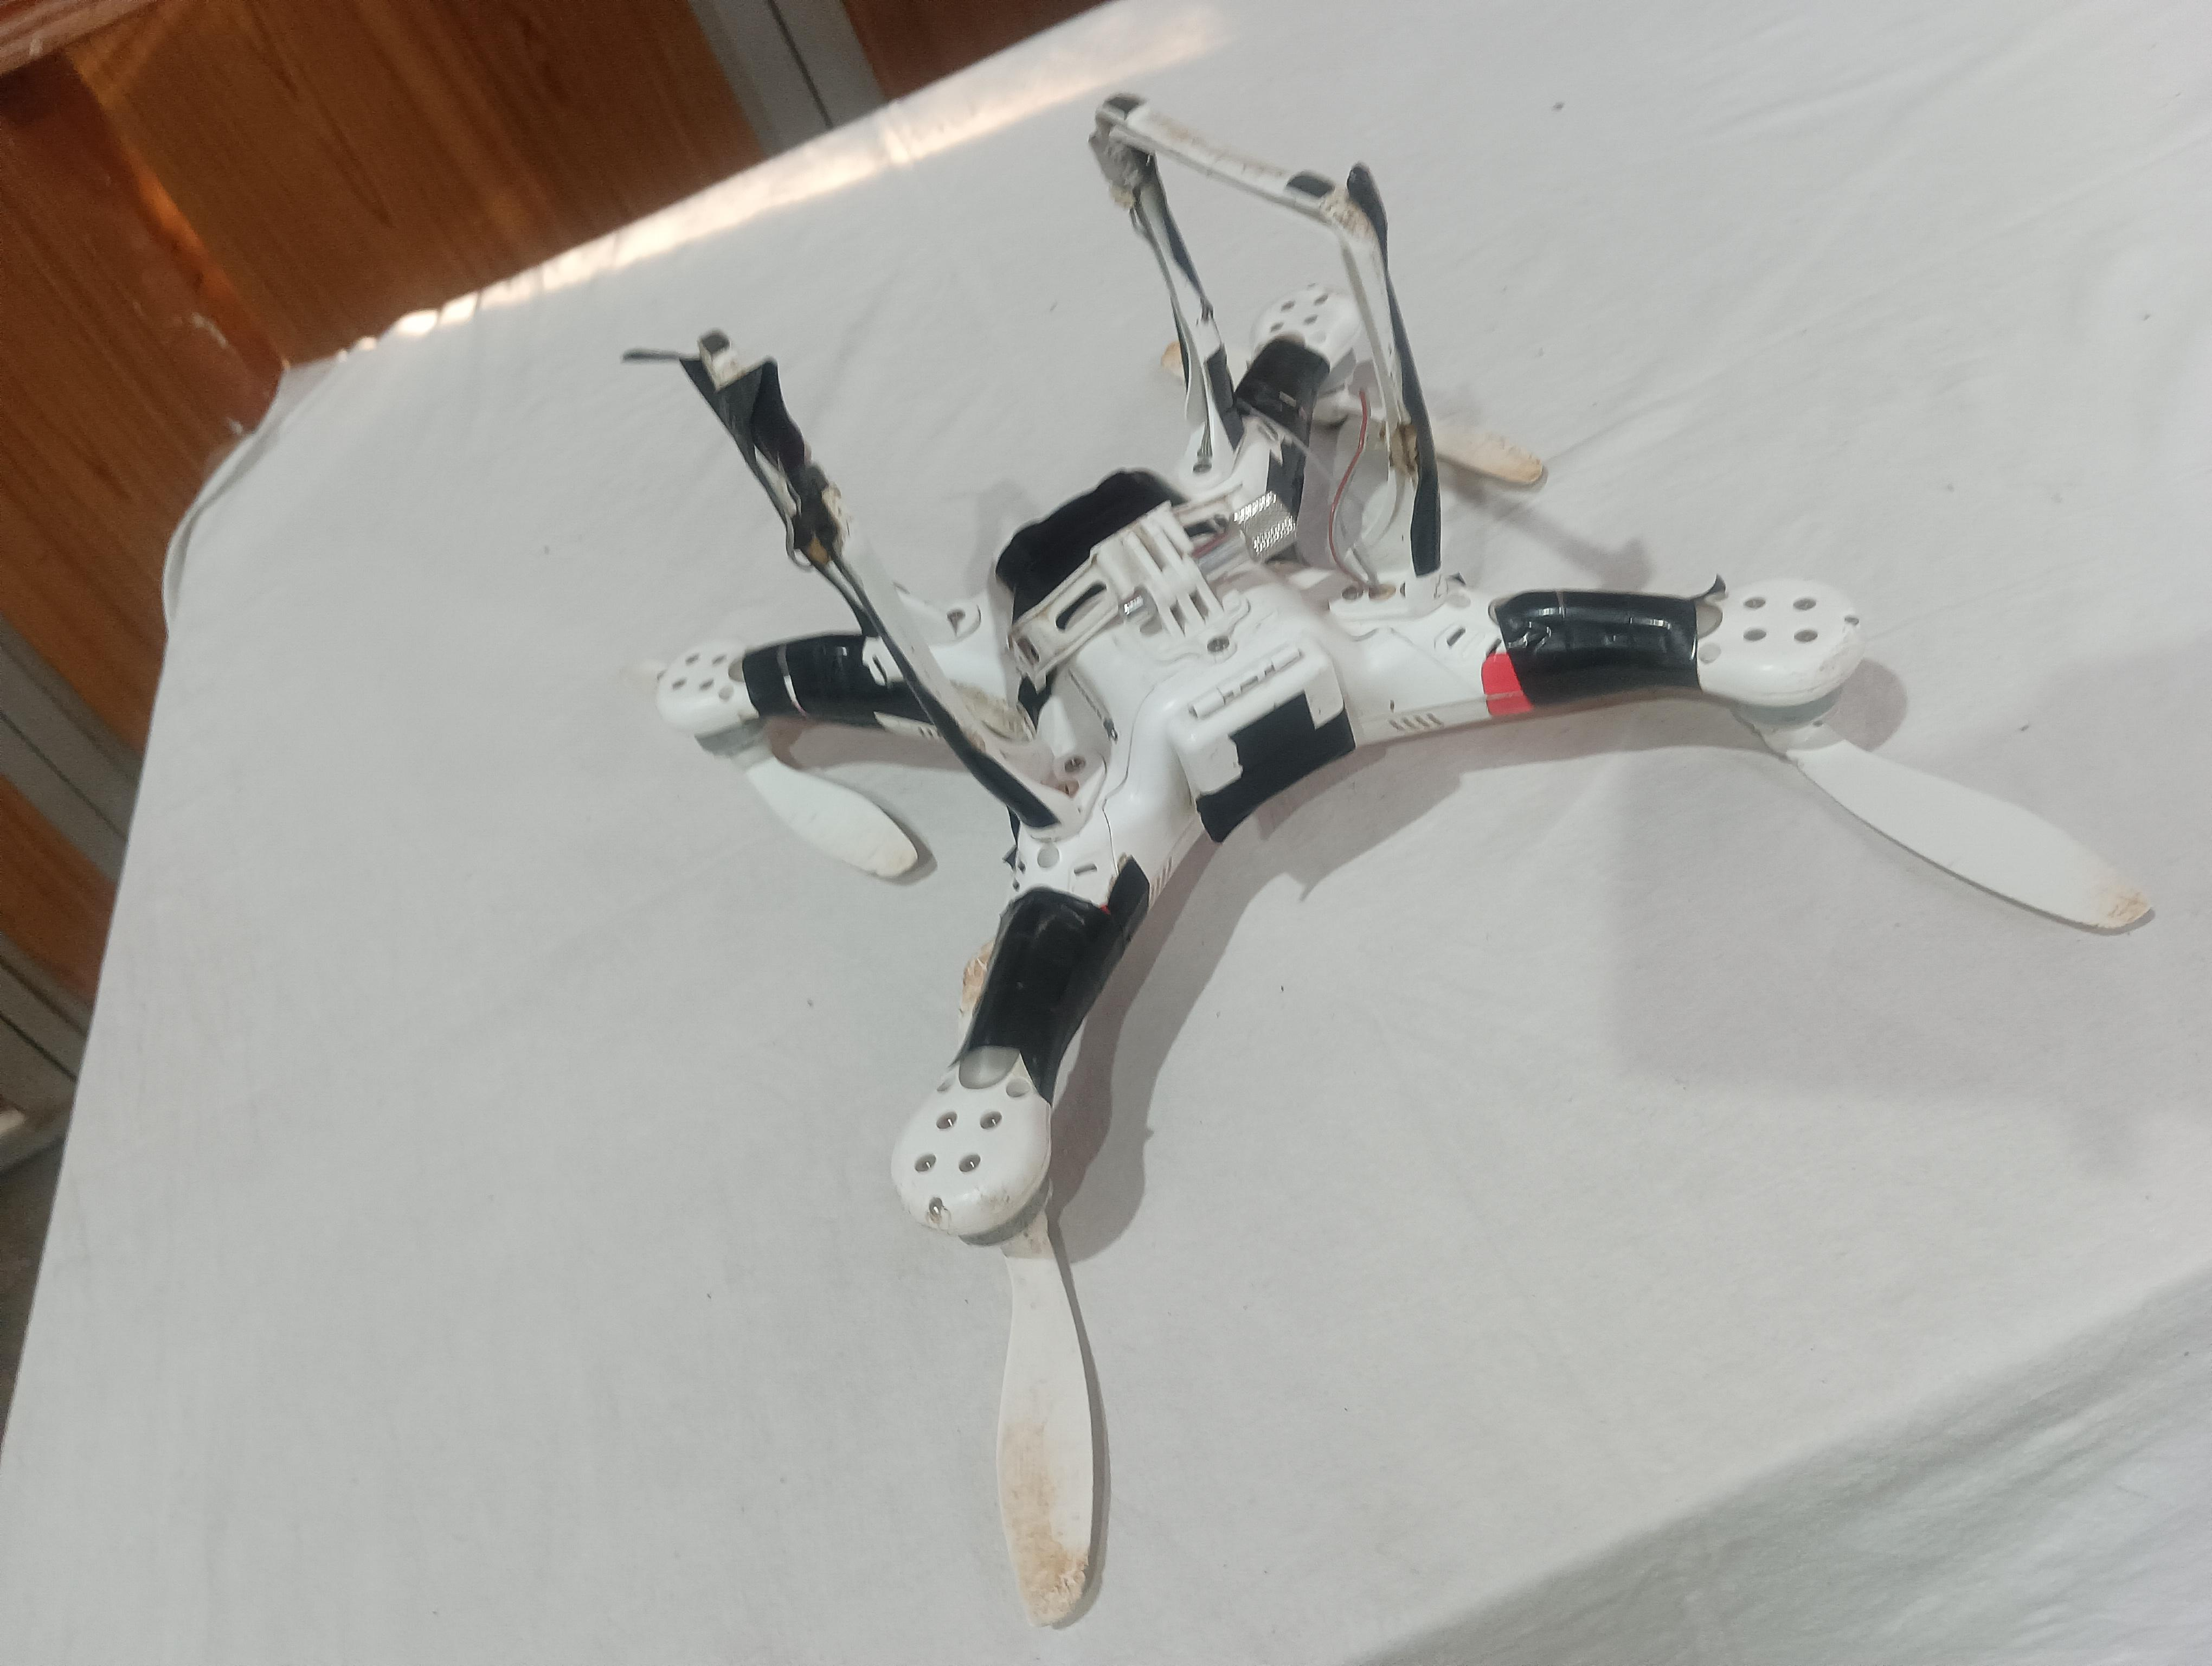drone: (418, 72, 2212, 1636)
